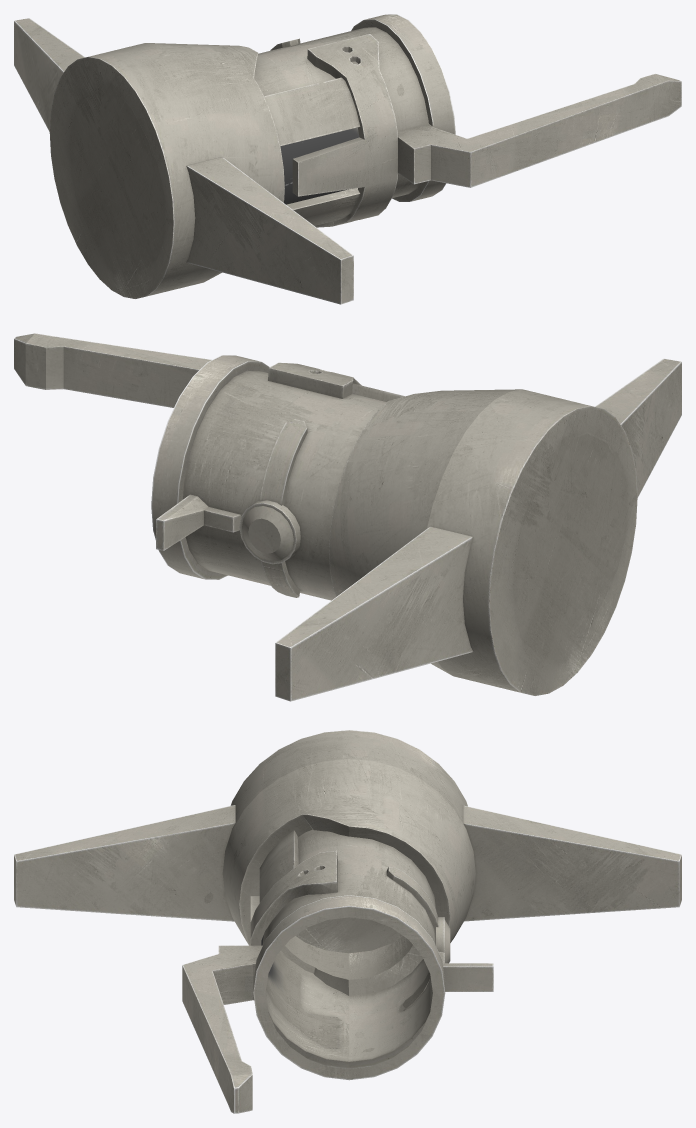
File: guard_18_r_d.glb
3 views of the same model, one above another, from view 1: azimuth 30°, elevation 25°; view 2: azimuth 150°, elevation 25°; view 3: azimuth 270°, elevation 25° (orthographic). The views are drawn at different scales.
Parts seen in each view (by area): view 1: guard_18_r_d_lod0; view 2: guard_18_r_d_lod0; view 3: guard_18_r_d_lod0.
Boxes of the visible parts, <box> form: guard_18_r_d_lod0: <box>14,14,681,304</box>; guard_18_r_d_lod0: <box>14,333,681,701</box>; guard_18_r_d_lod0: <box>14,730,681,1113</box>.
Size of what is drawn, in the model's own units: 0.0879 by 0.0367 by 0.0968.
1 material, 1 textured.
